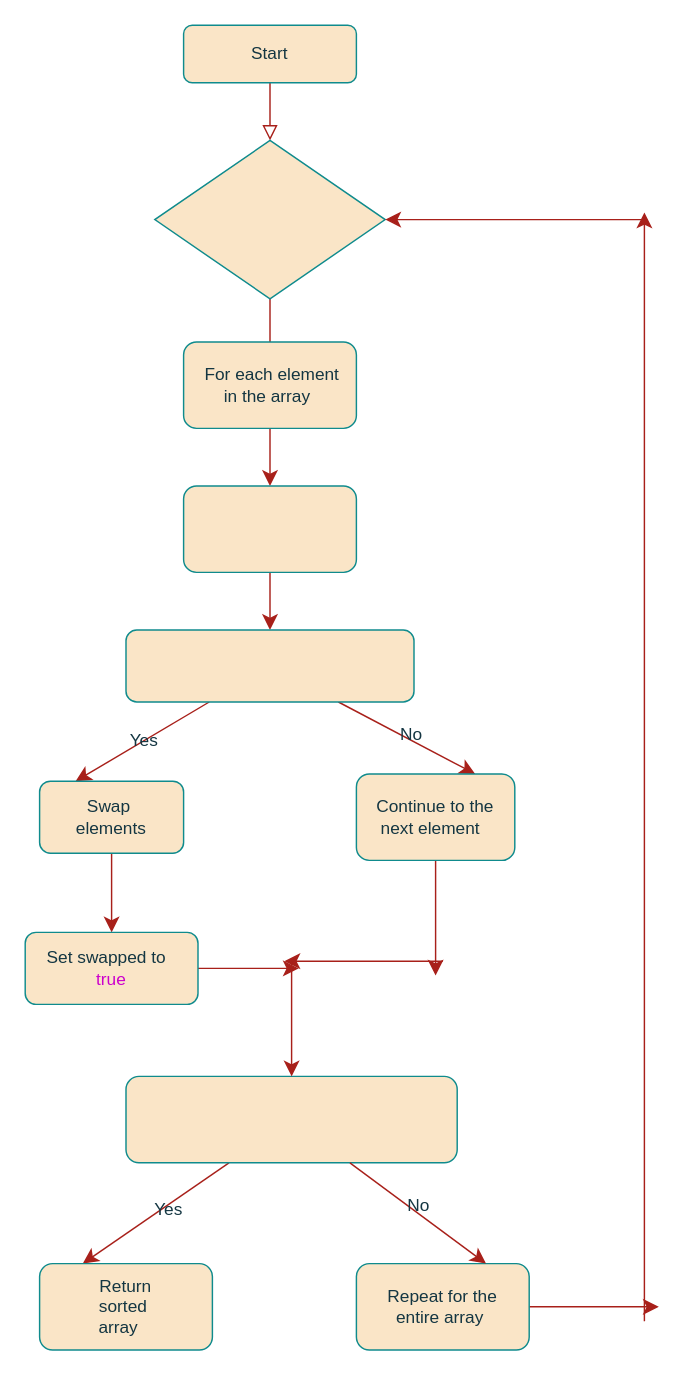
The diagram is 683 pixels wide and 1375 high, and some of its shapes have lost their labels. The shapes that lost their labels are listed below. From the top down, each one's box as (x1, y1, x2, y2) in pixels, then its label:
(153, 139, 385, 299): Initialise swapped to false
(182, 485, 356, 572): Compare adjacent elements
(125, 629, 414, 702): Are elements in the wrong order?
(125, 1075, 457, 1163): Is swapped false ?
